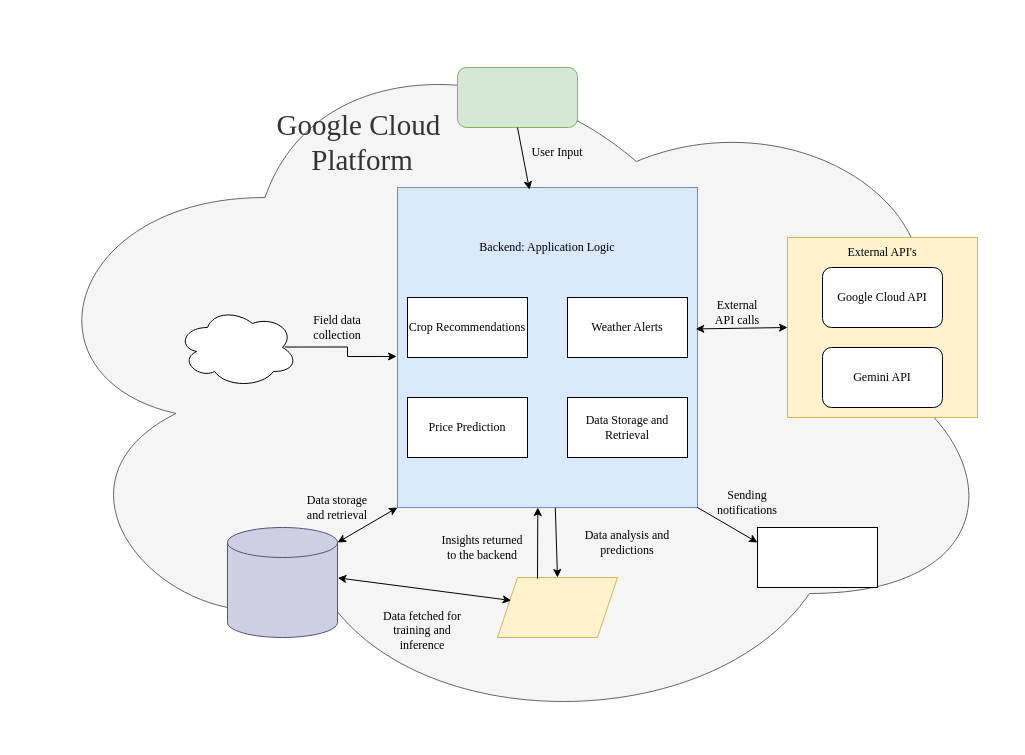
The diagram is 1025 pixels wide and 755 high, and some of its shapes have lost their labels. The centre of each missing label's shape, as x and y in pixels:
"AI/ML Models" goes at point 557,607.
"Database: BigQuery" goes at point 282,582.
"Frontend (User Interaction)" goes at point 517,97.
"IoT Sensors" goes at point 237,347.
"Notification System (Twilio/Firebase)" goes at point 817,557.
